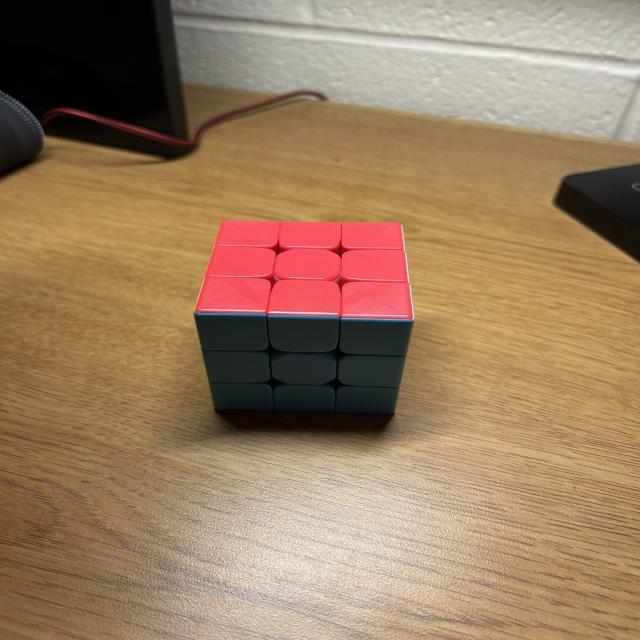Rubiks Cube: (196, 221, 414, 417)
